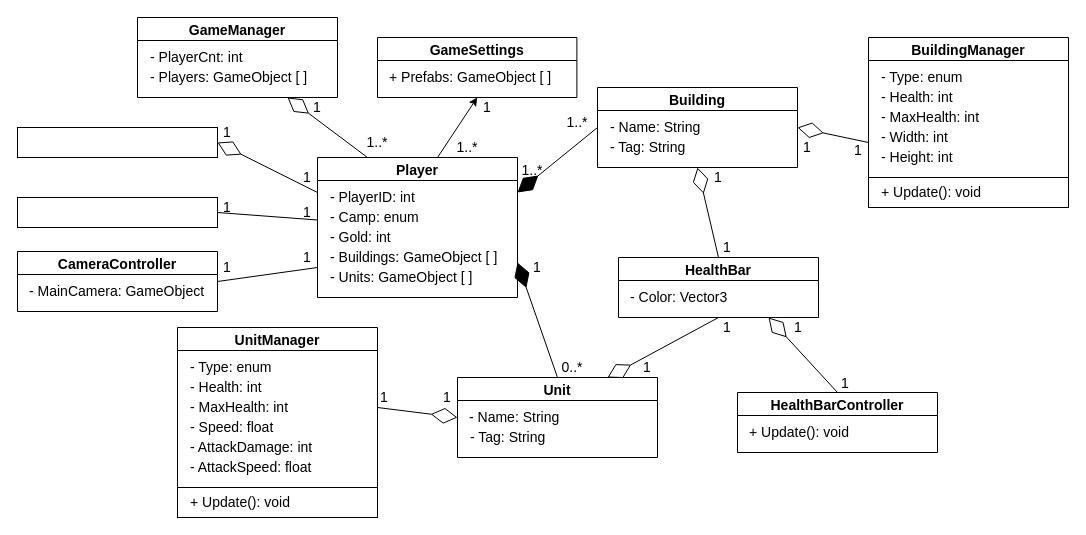
The diagram is 1086 pixels wide and 535 high, and some of its shapes have lost their labels. Each missing label, with the centre of its shape:
EventSystem: [117,212]
InGameUIManager: [117,142]
